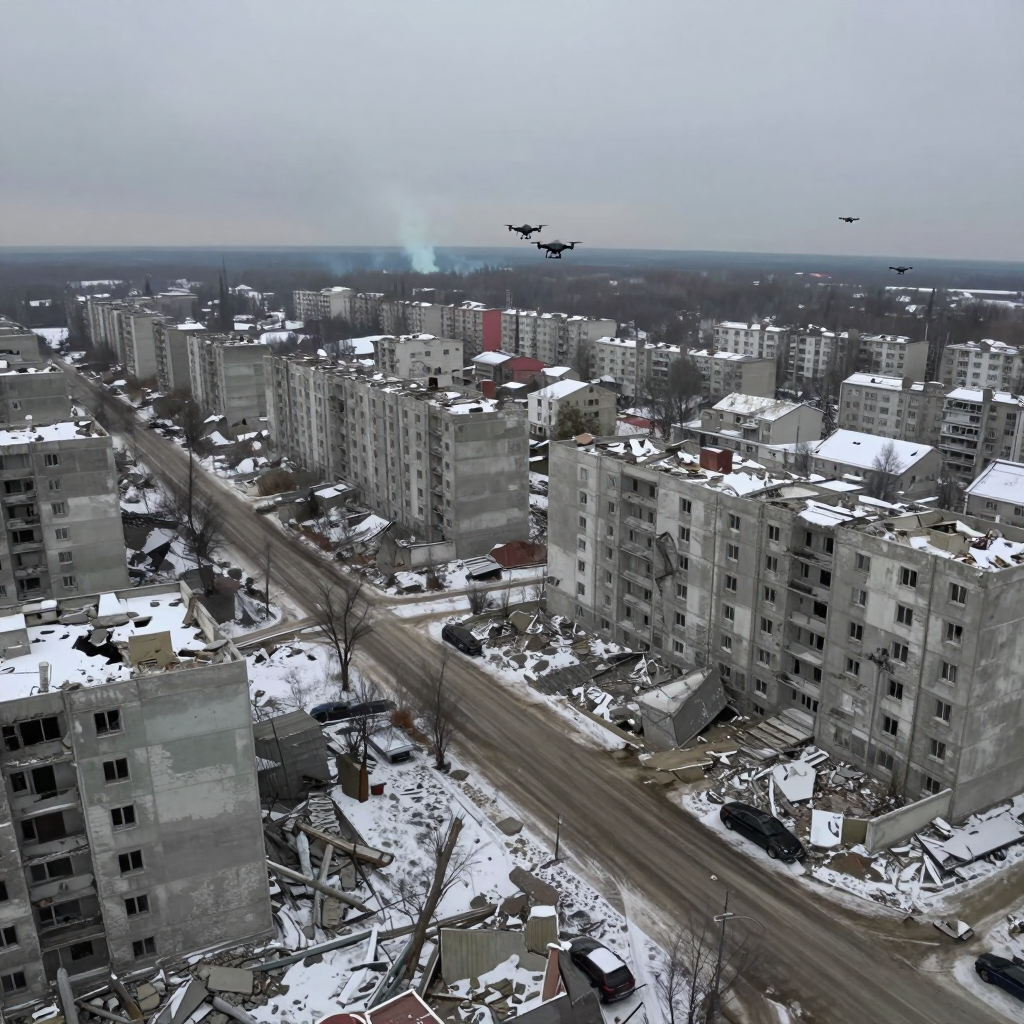drone: (531, 239, 583, 259), (512, 224, 549, 240), (889, 266, 913, 275), (839, 217, 860, 224)
